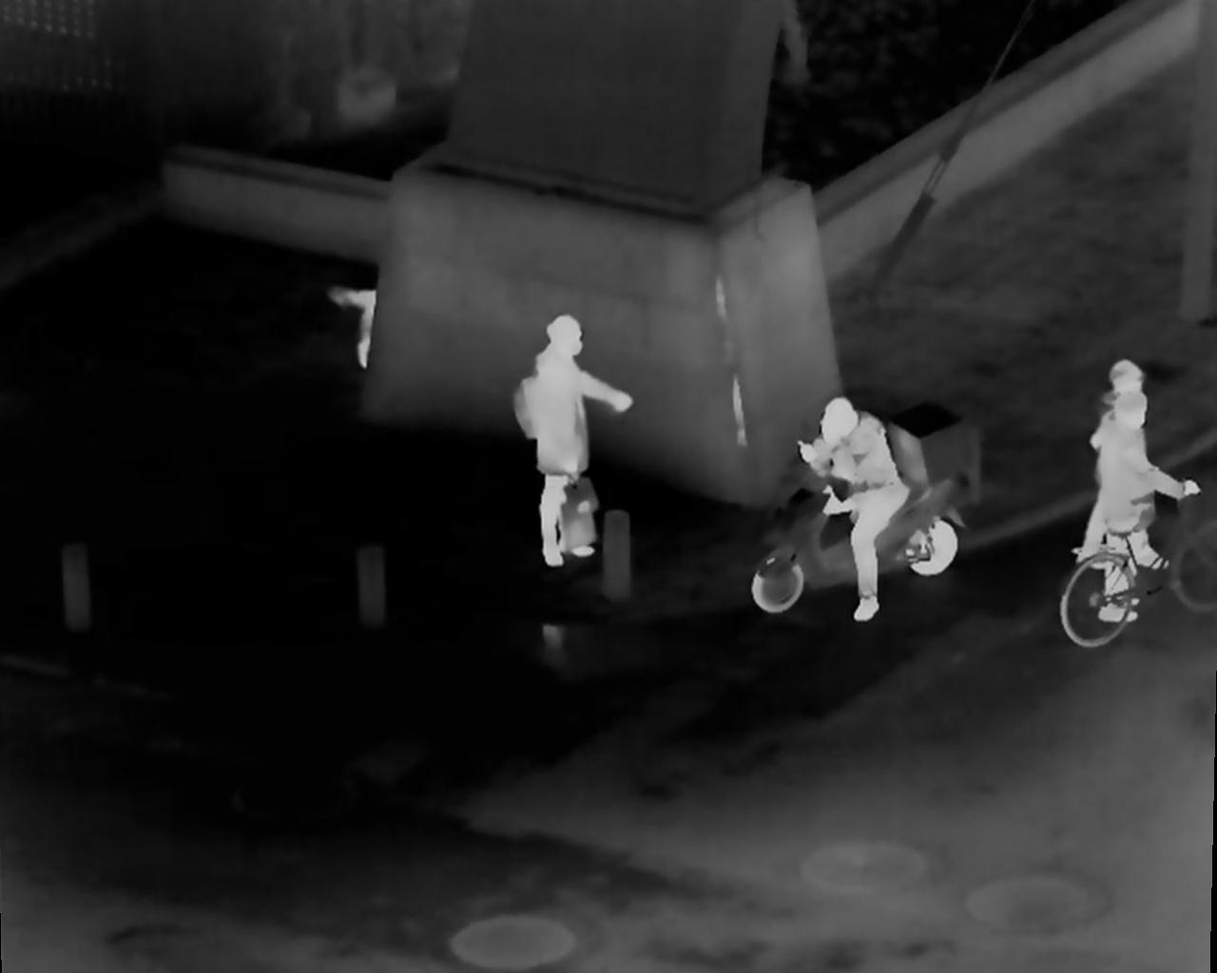person: (506, 317, 637, 566), (805, 396, 909, 619), (1101, 392, 1197, 622), (1074, 345, 1169, 576)
